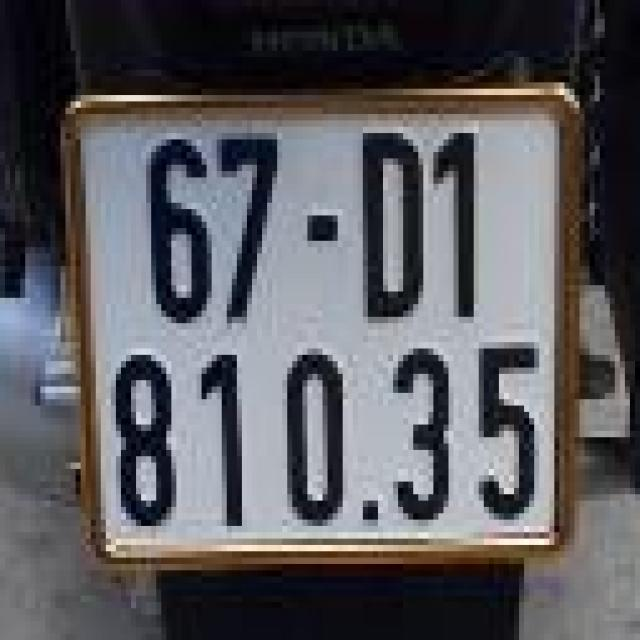0: (267, 323, 353, 532)
1: (184, 333, 249, 529), (433, 117, 484, 333)
3: (386, 333, 461, 529)
5: (469, 326, 549, 554)
6: (136, 120, 217, 330)
7: (207, 108, 292, 330)
8: (96, 348, 186, 532)
D: (348, 114, 433, 342)
